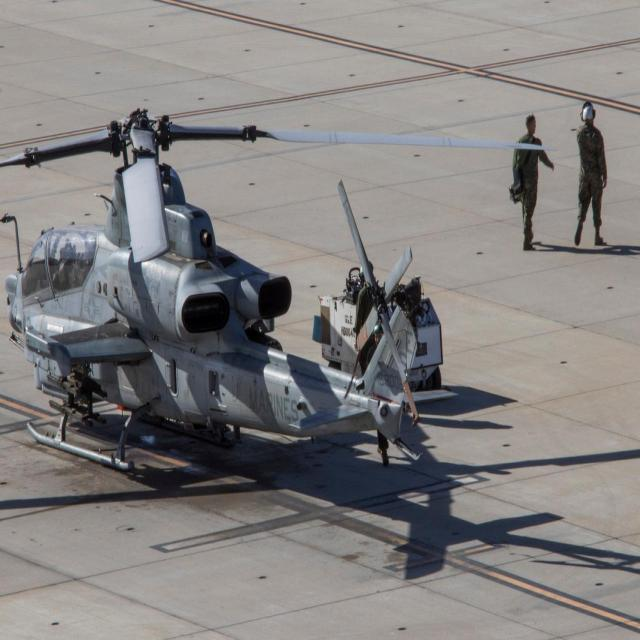MIL_HELO: (0, 95, 559, 490)
